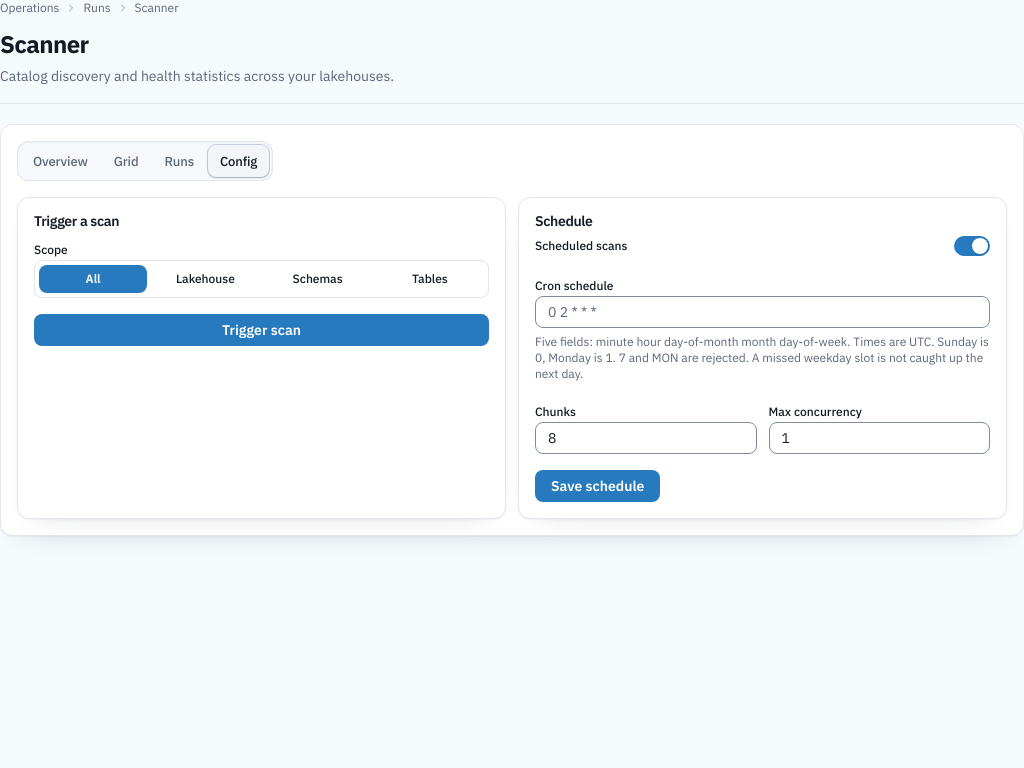
Test: ScannerDetail › describes the full scan scope before confirming
Click the button "Trigger scan": x=262, y=330 [34, 314, 489, 346]
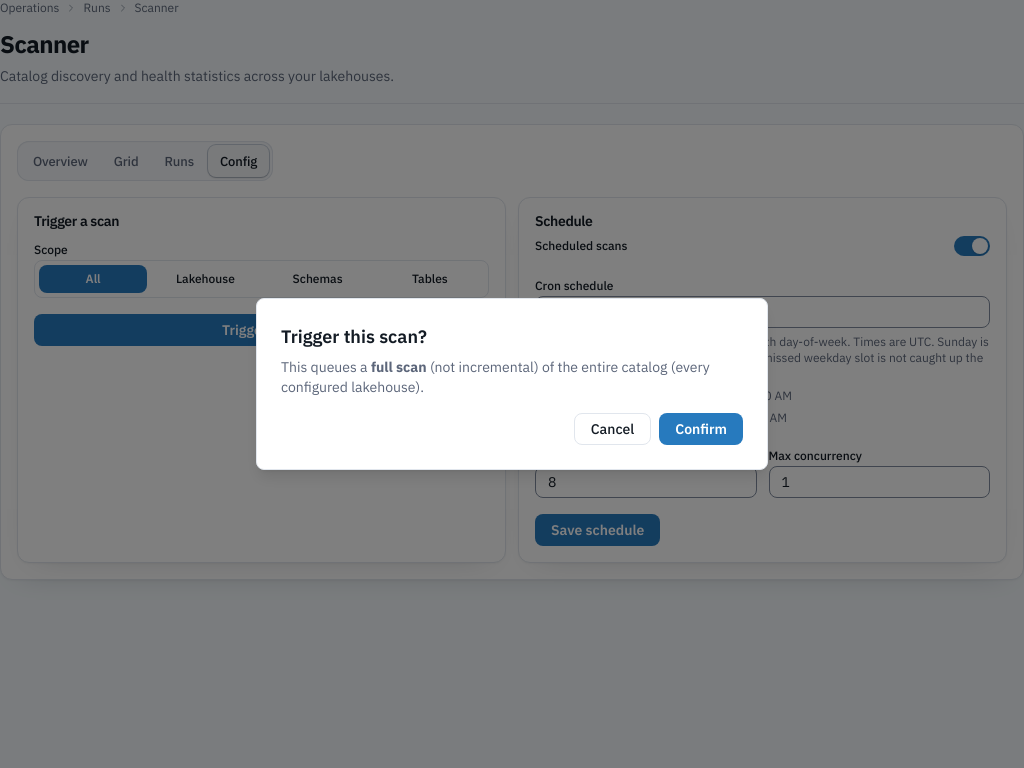
Check: the text "entire catalog" is shown, box [281, 358, 710, 396]
